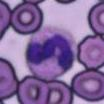N: (26, 26, 78, 78)
